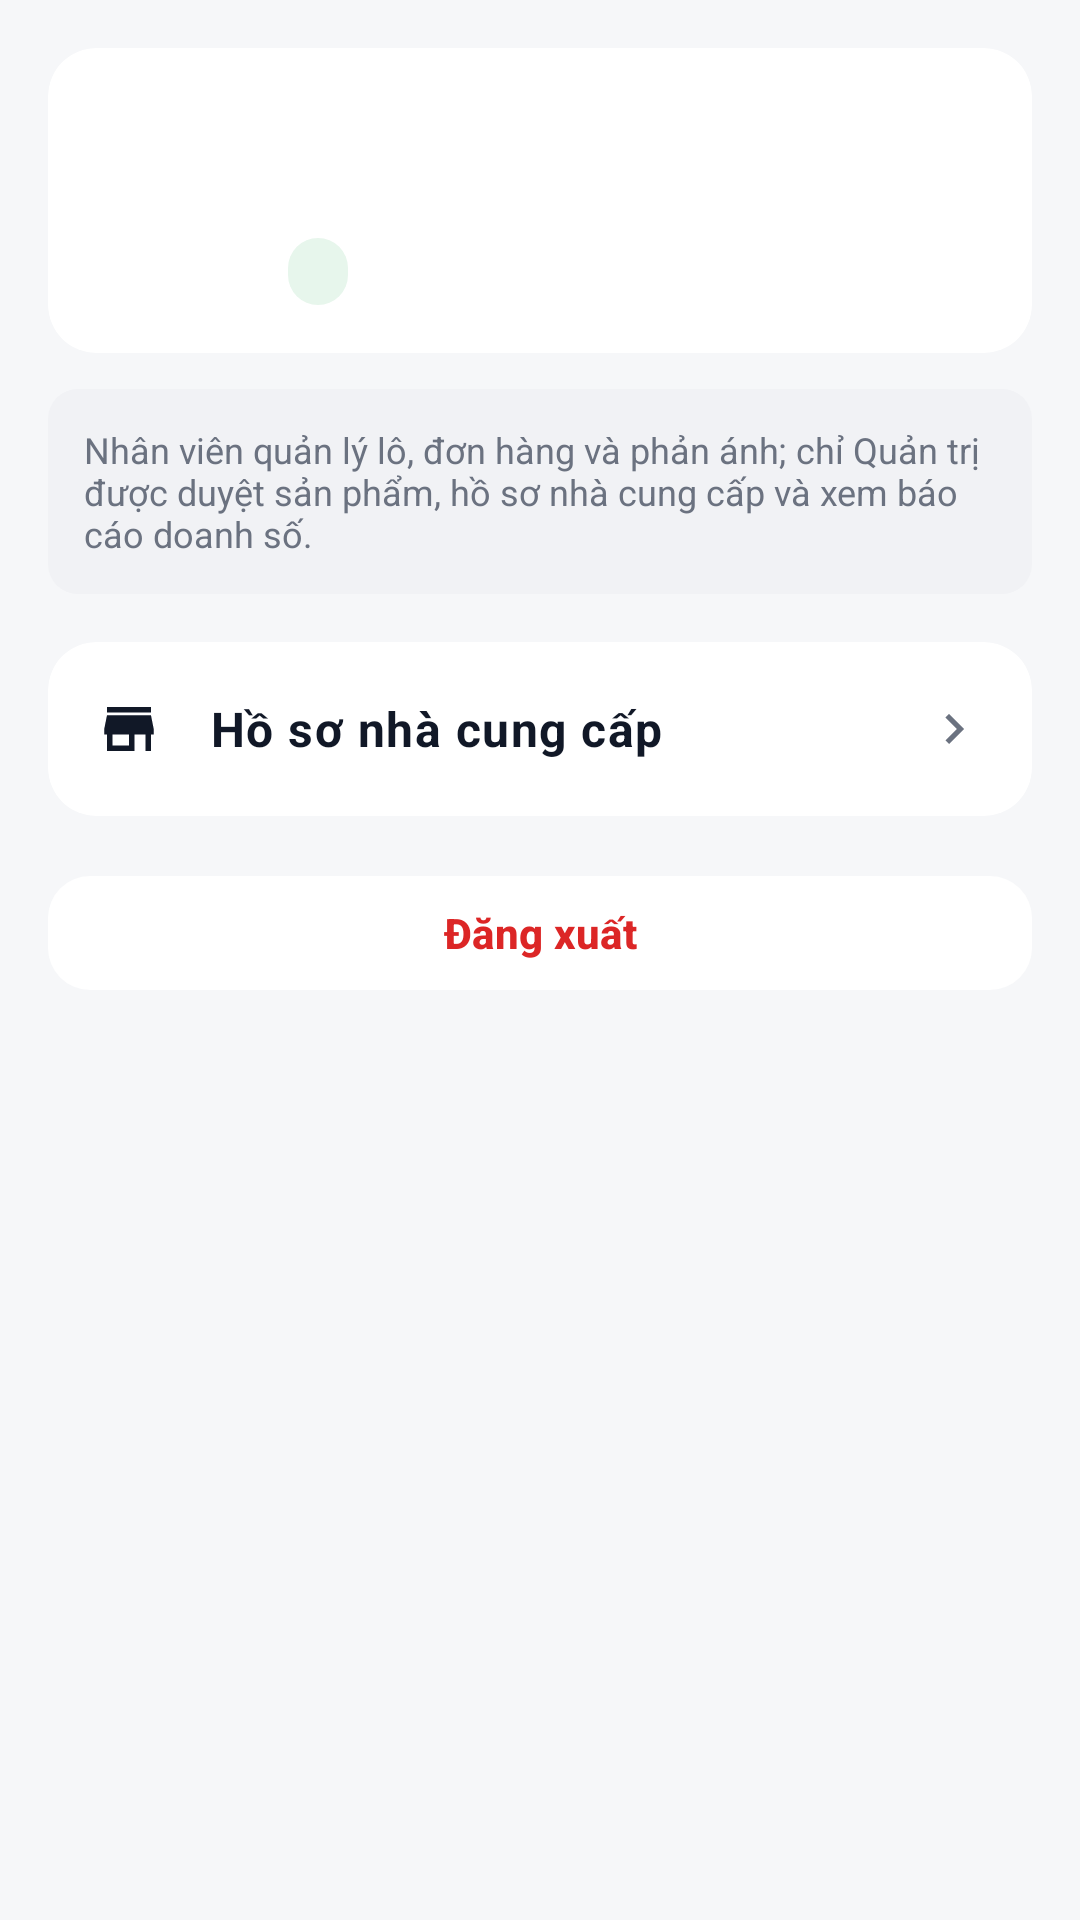

Point at icon controls on the screen. Image size 1080 x 1920, points as (x=x, y=y).
arrow right: (x=954, y=729)
suppliers: (x=129, y=729)
